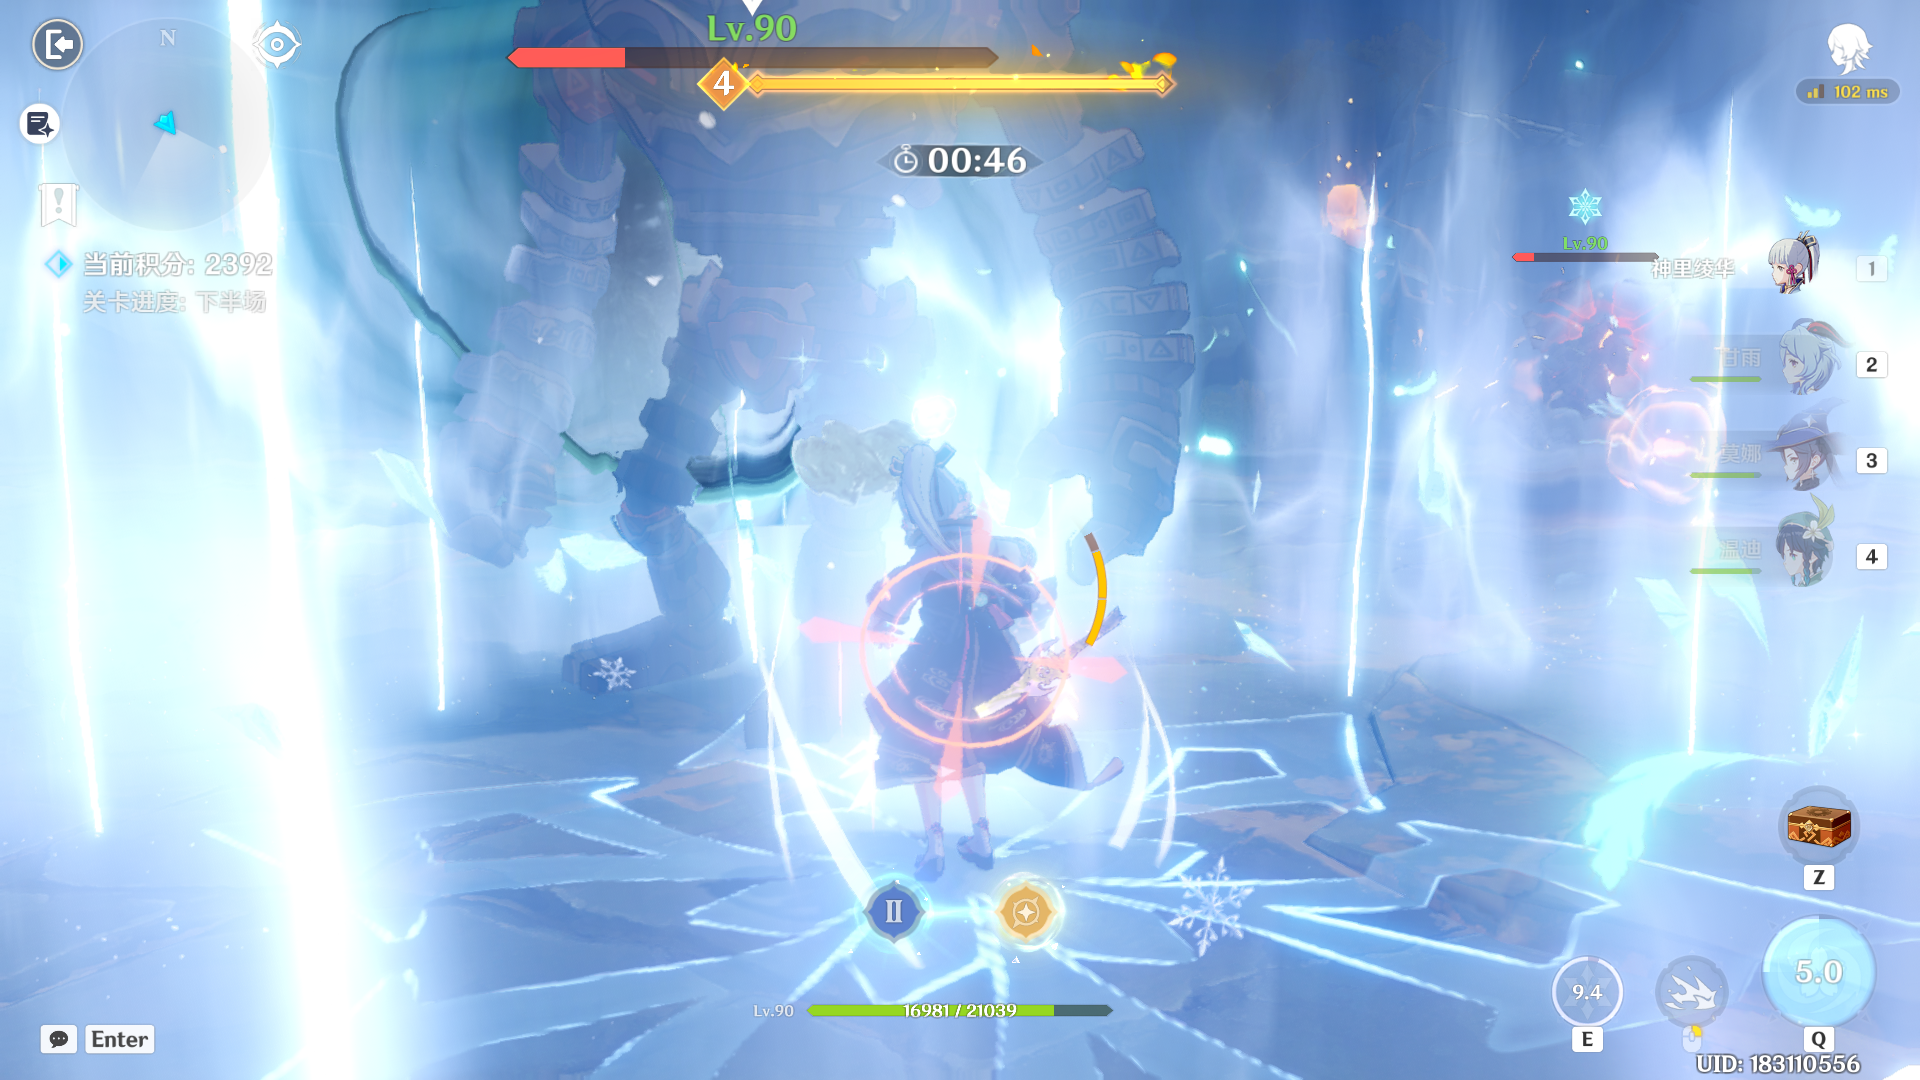character: (825, 436, 1097, 902)
